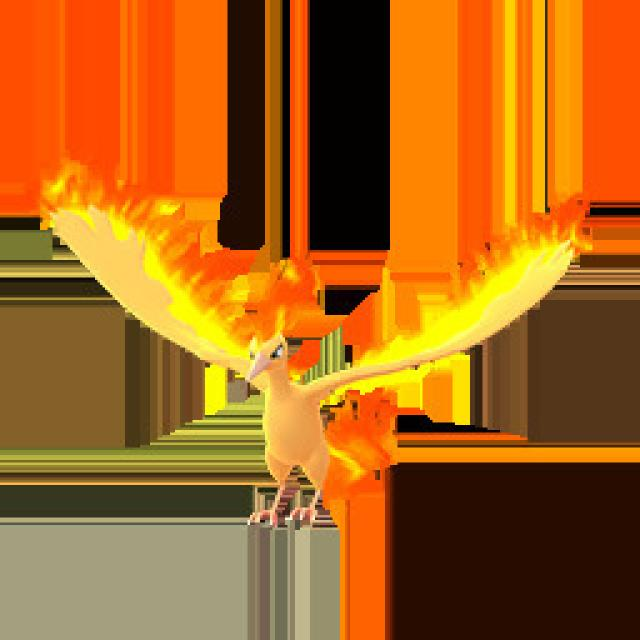Moltres: (102, 246, 488, 504)
